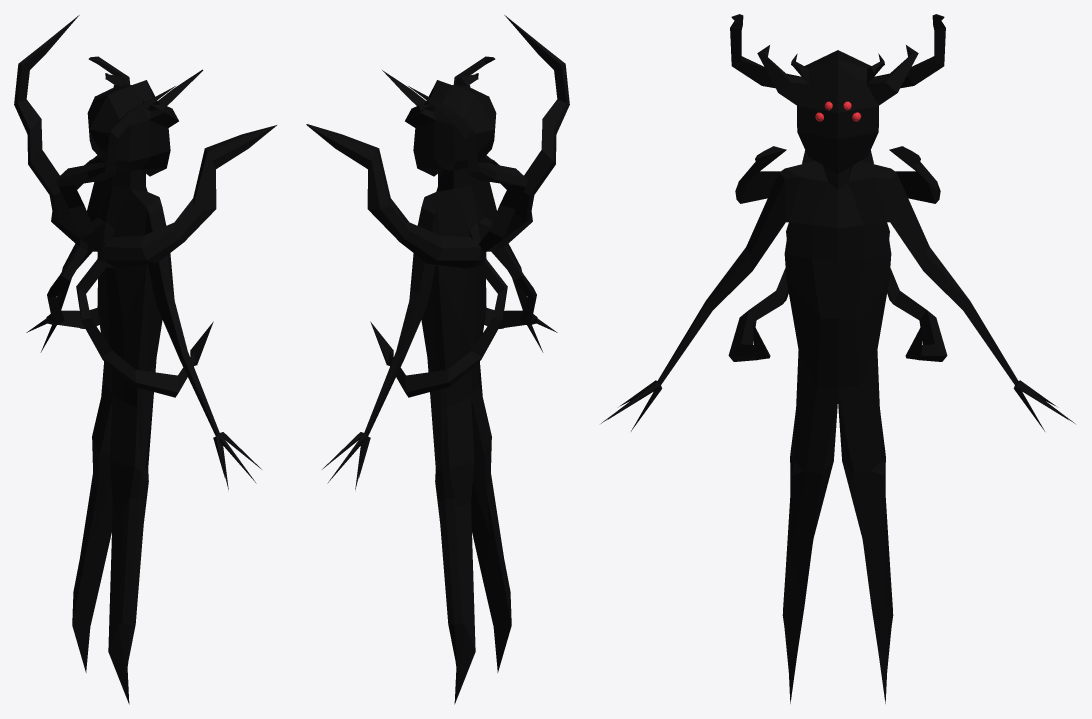
Rendered from demon.fbx.
The picture shows the model from 3 angles, left to right: view 1: azimuth 30°, elevation 25°; view 2: azimuth 150°, elevation 25°; view 3: azimuth 270°, elevation 25°; orthographic projection. The views are drawn at different scales.
Visible parts, largest first — view 1: Demon; view 2: Demon; view 3: Demon.
Part boxes in pixels (x1,y1,x2,y2): Demon: [14, 15, 276, 704]; Demon: [306, 15, 569, 704]; Demon: [601, 14, 1074, 703].
Bounding box in the file's own units: 376 × 1158 × 719.
